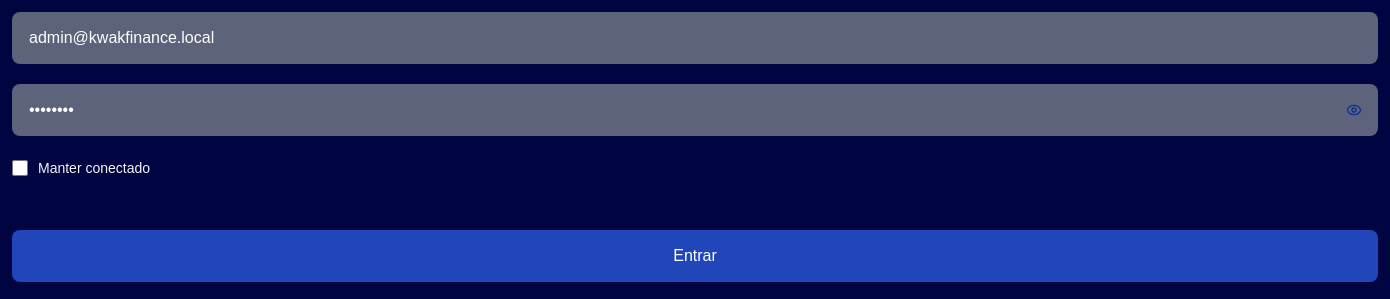
Test: LoginForm › alterna a visibilidade da senha
The width and height of the screenshot is (1390, 299).
Click the button named "Mostrar senha" at (1354, 110), box [1334, 90, 1374, 130]
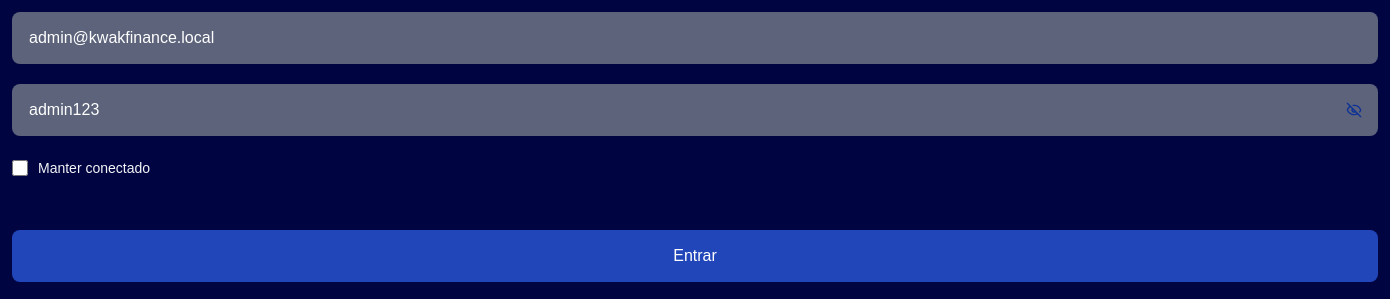
Expected: the 2nd field named "Senha" shows its text, [12, 84, 1378, 136]
